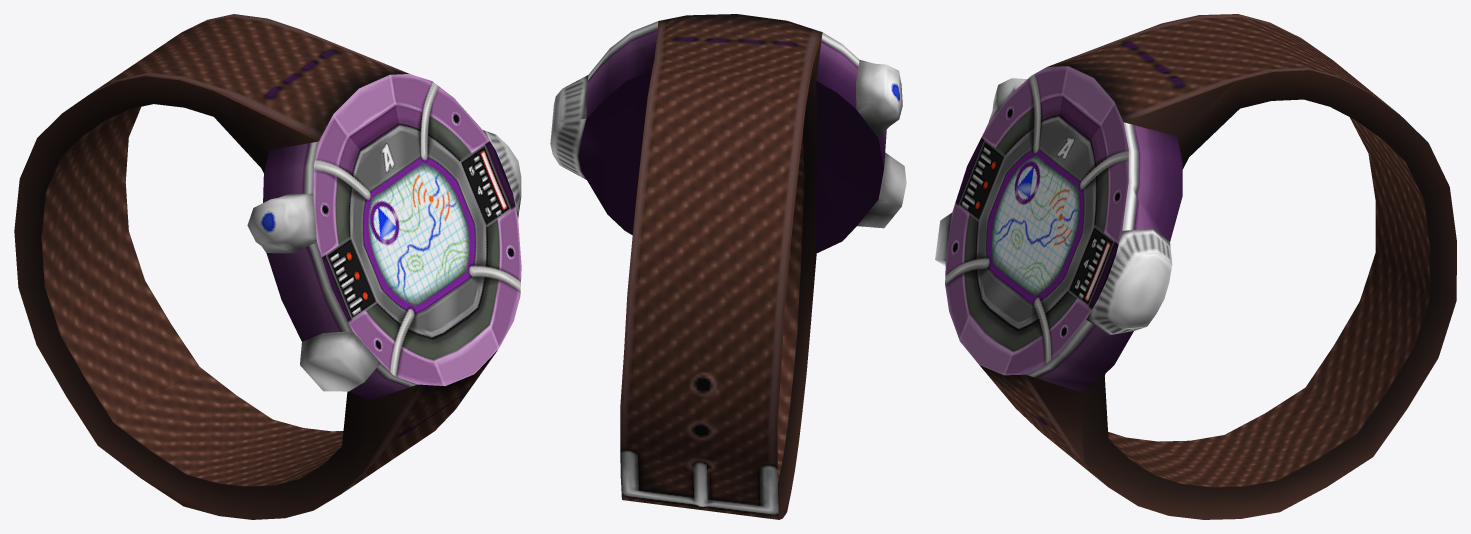
Rendered from watch.glb.
3 renders of one model, left to right at view 1: azimuth 30°, elevation 25°; view 2: azimuth 150°, elevation 25°; view 3: azimuth 270°, elevation 25°, orthographic. The views are drawn at different scales.
Visible parts, largest first — view 1: node_id5; view 2: node_id5; view 3: node_id5.
Part boxes in pixels (x1,y1,x2,y2): node_id5: (14,14,521,519); node_id5: (550,14,906,519); node_id5: (935,14,1456,519).
Size of the model in its own units: 0.3273 by 0.3739 by 0.4006.
1 material, 1 textured.
